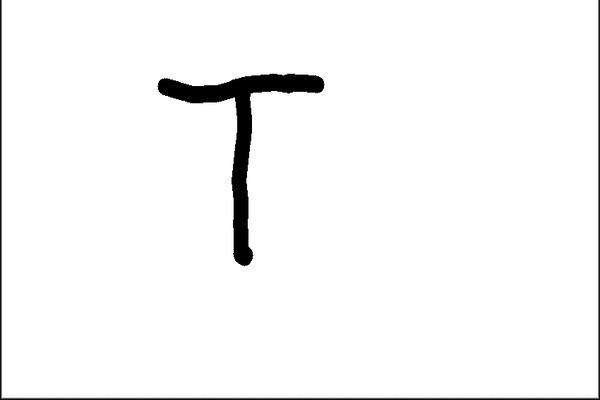T: (148, 66, 330, 265)
